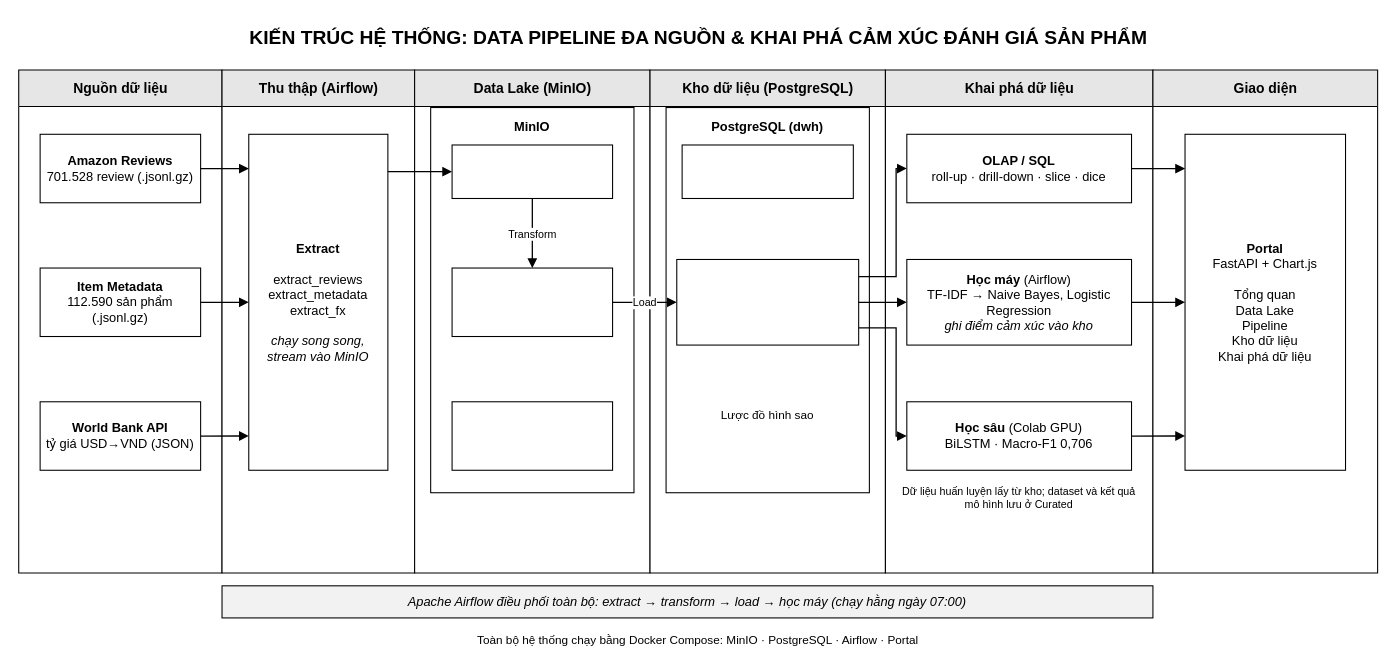
This 1396x666 diagram has some shape labels left out. Each missing label, with the centre of its shape:
"Curated dataset ML + metrics.json" goes at [532,435].
"DW: Fact và Dimension fact_reviews dim_product · dim_user dim_time" goes at [767,301].
"Raw file gốc, theo ngày nạp" goes at [532,171].
"review_text · etl_load_log" goes at [767,171].
"Staging Parquet đã làm sạch" goes at [532,302].
